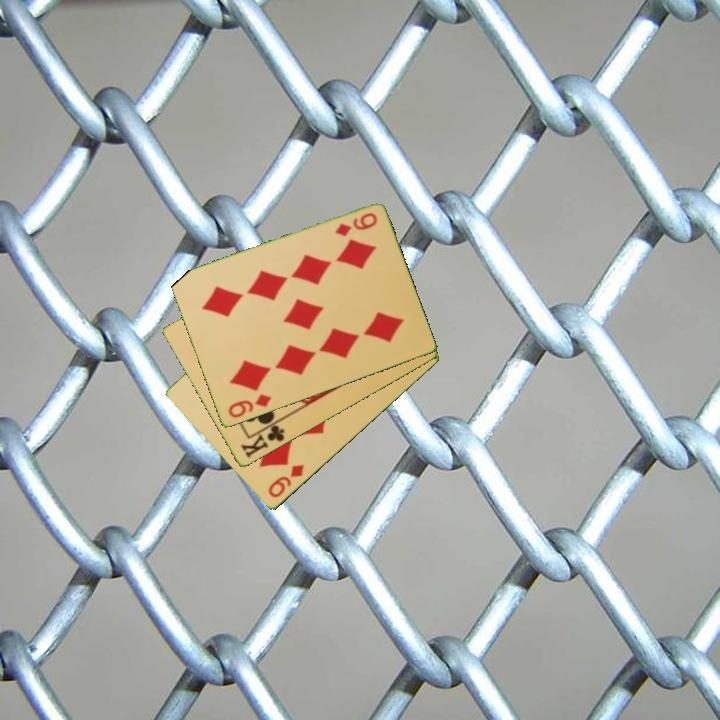9d: (264, 461, 307, 501), (331, 209, 380, 240), (224, 391, 274, 421)
Kc: (237, 417, 288, 462)
